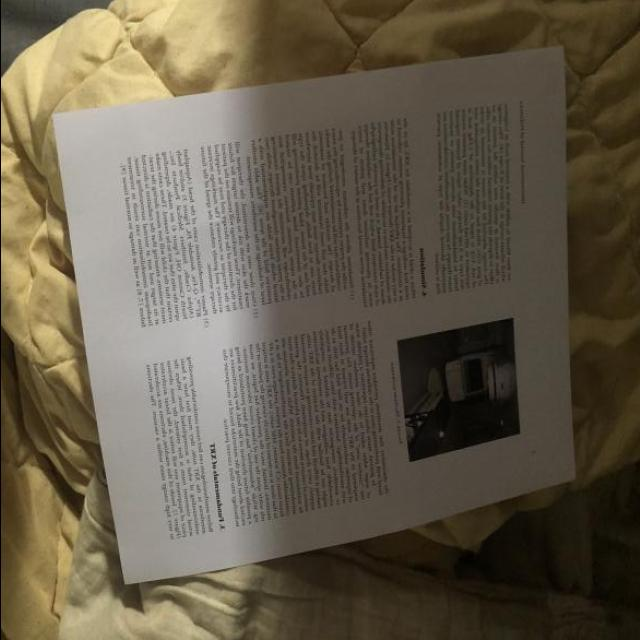kertas: (51, 44, 624, 586)
